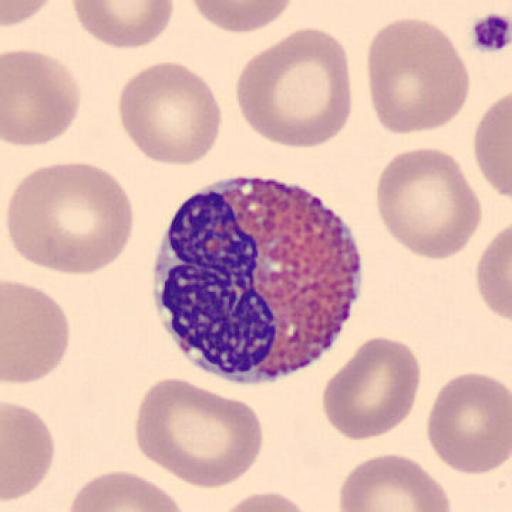RBC: (6, 161, 136, 276), (134, 376, 264, 490), (236, 26, 354, 150), (365, 16, 471, 136), (375, 145, 483, 261), (118, 60, 222, 167), (320, 334, 422, 442), (426, 371, 511, 475), (2, 48, 82, 148), (2, 278, 71, 384), (338, 451, 453, 512), (2, 400, 56, 503), (66, 469, 189, 512), (71, 0, 175, 49), (473, 89, 512, 201), (475, 222, 512, 322), (190, 0, 294, 34), (217, 489, 318, 512), (2, 0, 59, 27)
WBC: (154, 180, 366, 384)
